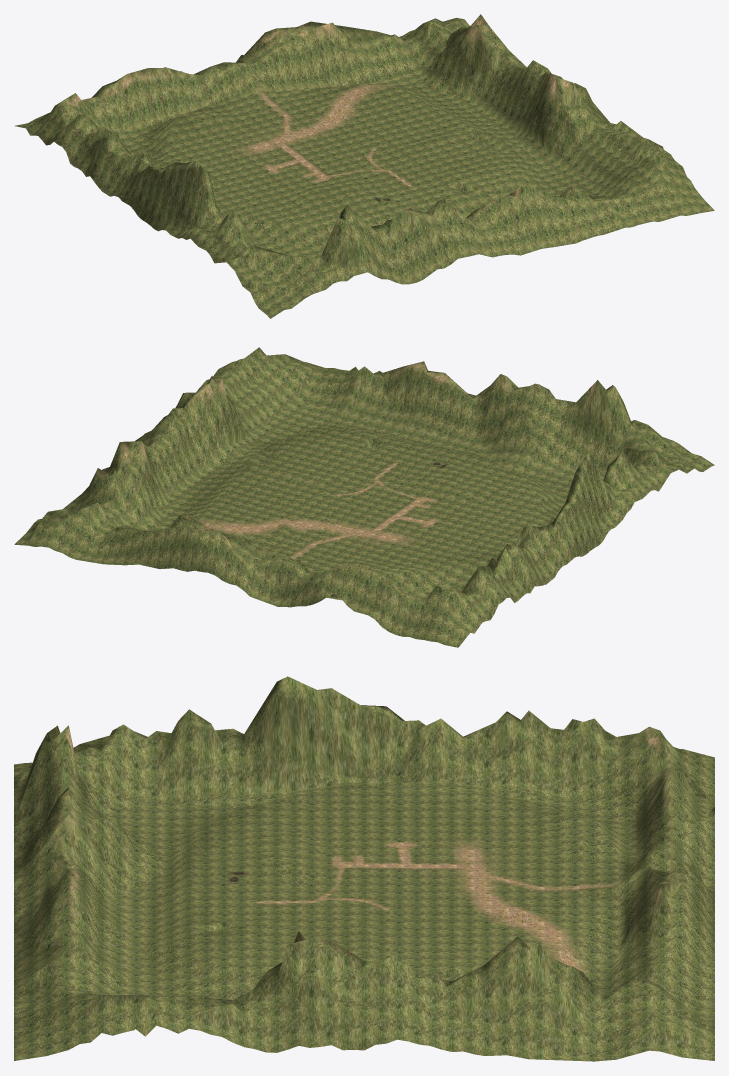
3 views of the same model, one above another, from view 1: azimuth 30°, elevation 25°; view 2: azimuth 150°, elevation 25°; view 3: azimuth 270°, elevation 25° (orthographic). The views are drawn at different scales.
Visible parts, largest first — view 1: Mesh; view 2: Mesh; view 3: Mesh.
Boxes of the visible parts, bbox=[...] form: Mesh: bbox=[15, 14, 714, 318]; Mesh: bbox=[14, 347, 714, 647]; Mesh: bbox=[14, 676, 714, 1061].
Bounding box in the file's own units: 200 × 33.82 × 200.
Materials: 1 (1 with a texture image).
